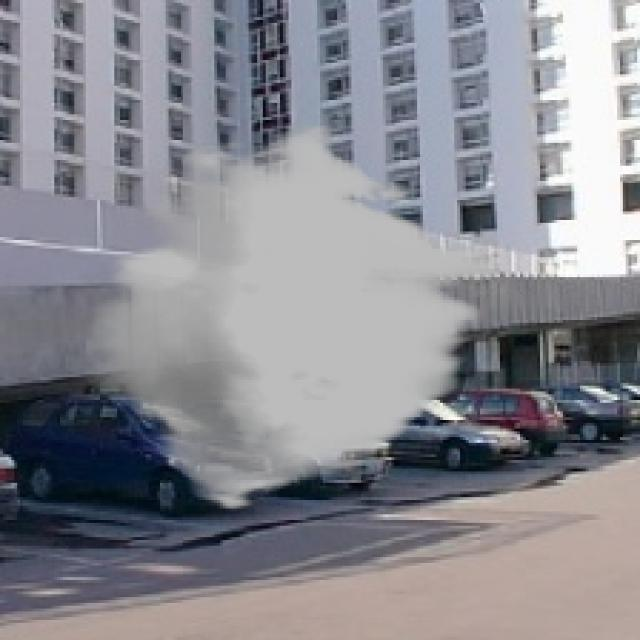Smoke: (86, 122, 497, 512)
